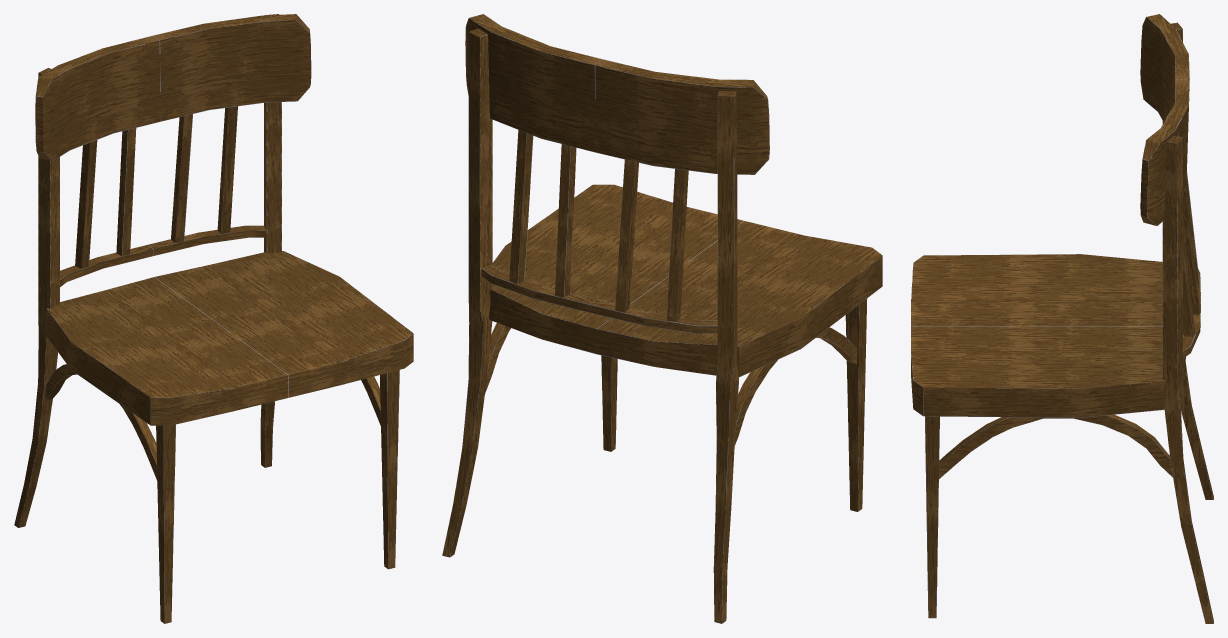
Rendered from chair.glb.
The picture shows the model from 3 angles, left to right: view 1: azimuth 30°, elevation 25°; view 2: azimuth 150°, elevation 25°; view 3: azimuth 270°, elevation 25°; orthographic projection. The views are drawn at different scales.
Visible parts, largest first — view 1: chair; view 2: chair; view 3: chair.
Boxes of the visible parts, <box> form: chair: <box>14,14,413,623</box>; chair: <box>442,14,882,623</box>; chair: <box>911,14,1213,623</box>.
Size of the model in its own units: 0.6161 by 1 by 0.5697.
Materials: 1 (1 with a texture image).
